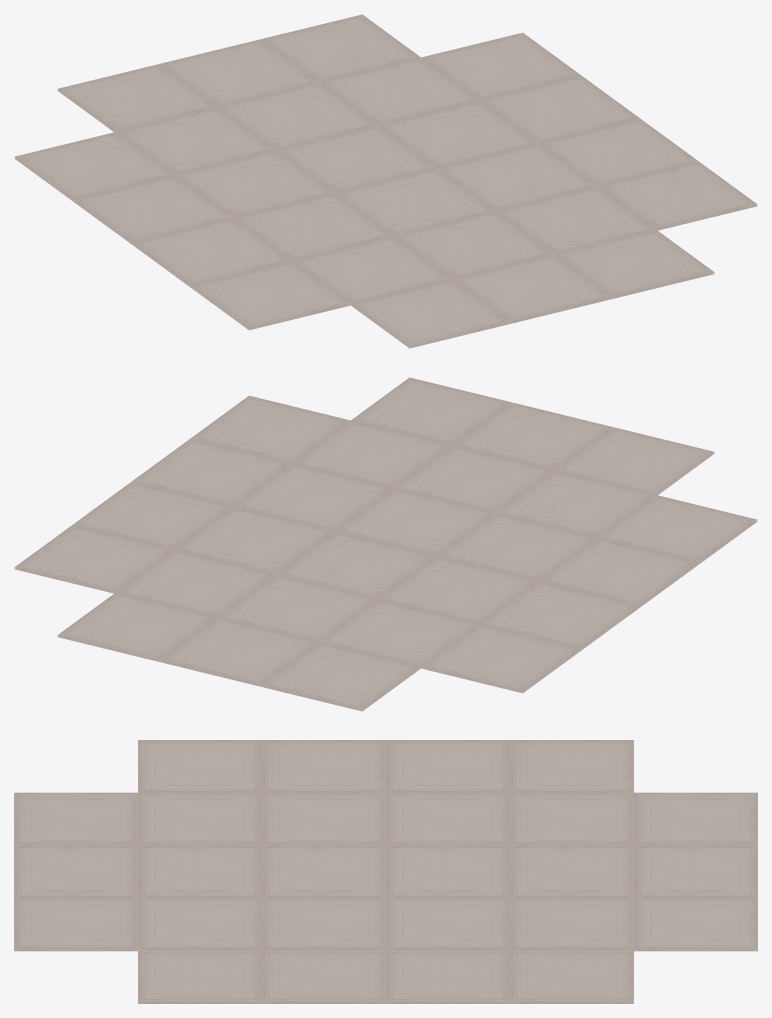
Rendered from Homeworld_Interior_Fd_Room_D_Ceiling_01_Vo.fbx.
The picture shows the model from 3 angles, top to bottom: view 1: azimuth 30°, elevation 25°; view 2: azimuth 150°, elevation 25°; view 3: azimuth 270°, elevation 25°; orthographic projection. The views are drawn at different scales.
Parts seen in each view (by area): view 1: Homeworld_Interior_Fd_Room_Ceiling_01_Vo (×26); view 2: Homeworld_Interior_Fd_Room_Ceiling_01_Vo (×26); view 3: Homeworld_Interior_Fd_Room_Ceiling_01_Vo (×26).
Part boxes in pixels (x1=…): Homeworld_Interior_Fd_Room_Ceiling_01_Vo (×26): x1=14, y1=14, x2=757, y2=348; Homeworld_Interior_Fd_Room_Ceiling_01_Vo (×26): x1=14, y1=377, x2=757, y2=711; Homeworld_Interior_Fd_Room_Ceiling_01_Vo (×26): x1=14, y1=740, x2=757, y2=1003.
Bounding box in the file's own units: 25 × 0.074 × 30.
